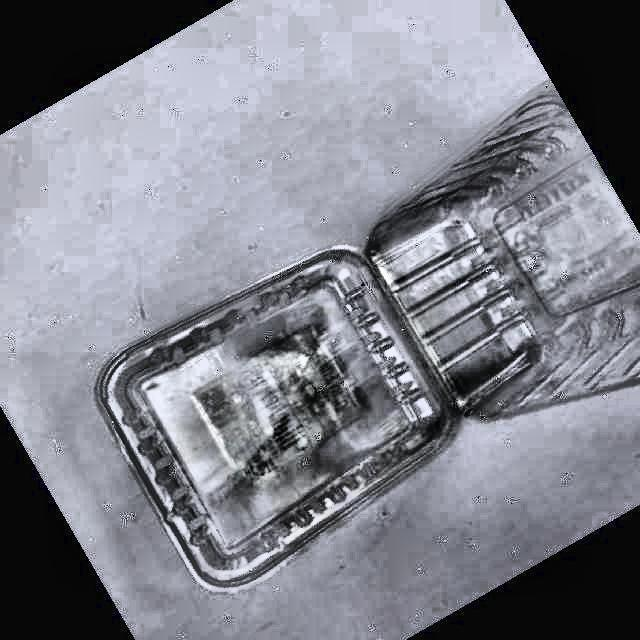plastic: (100, 85, 640, 588)
